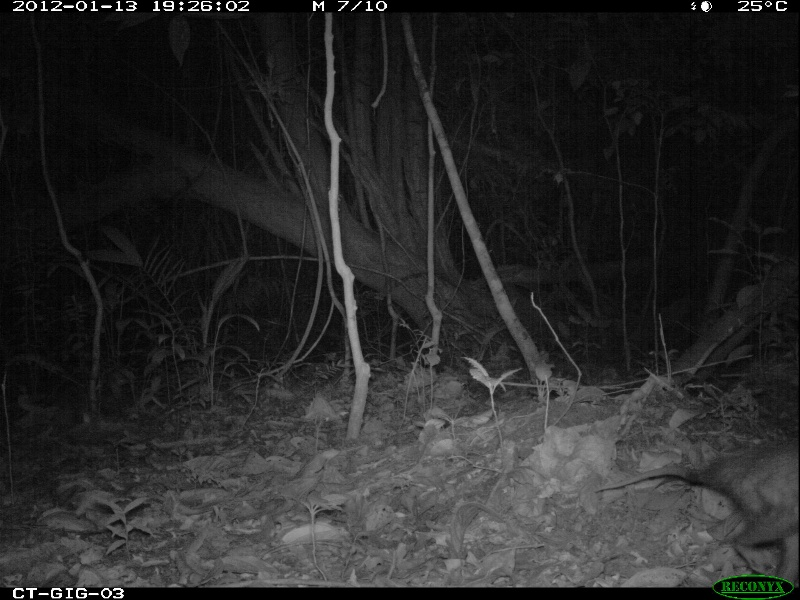opossum: (601, 444, 800, 575)
